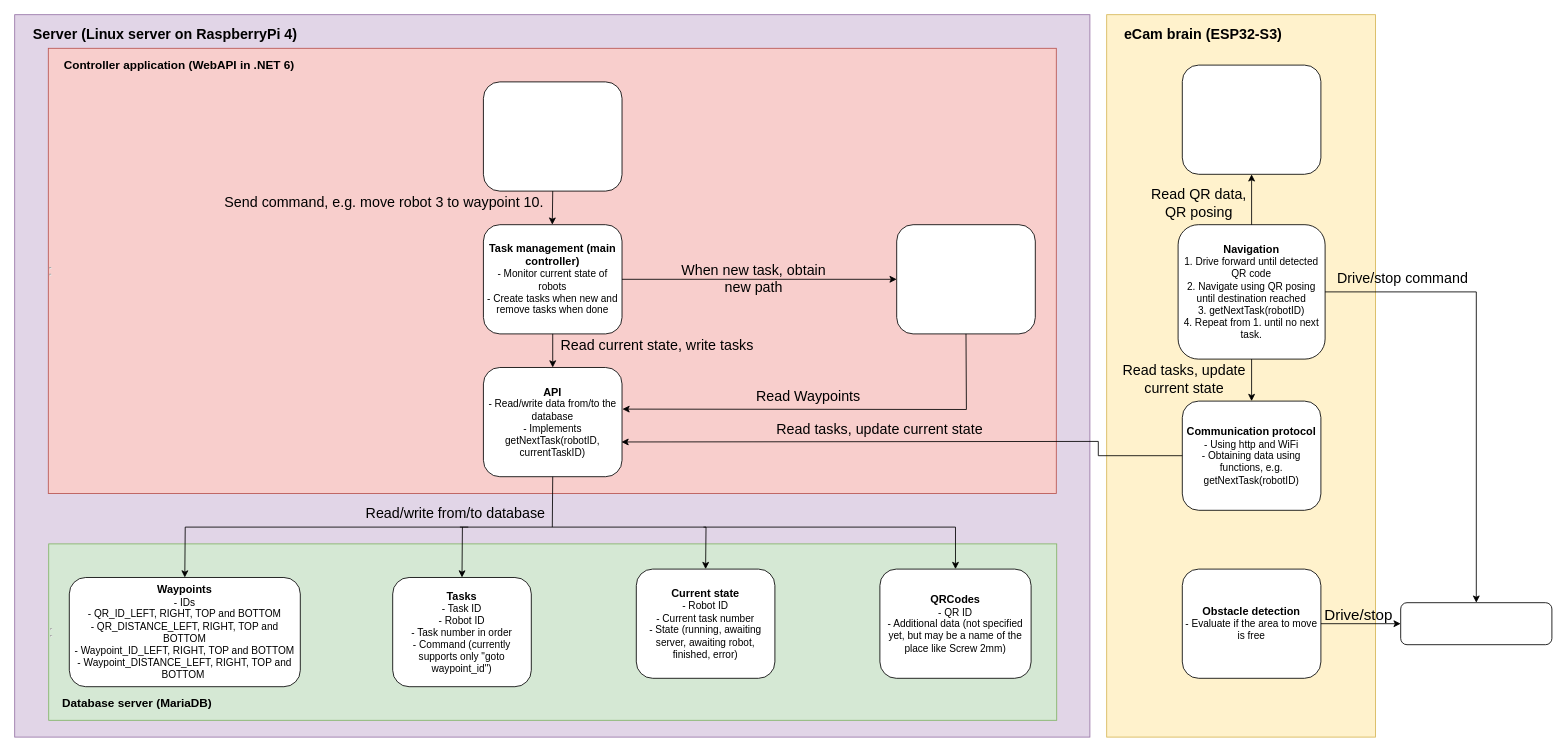
This 1567x752 diagram has some shape labels left out. The box of each missing label's shape, as (x1, y1, x2, y2) in pixels:
MOTOR CONTROL: (1400, 602, 1552, 645)
Pathfinding - Using Dijkstra algorithm: (896, 224, 1035, 334)
QR detection - Obtain QR ID - Get position of QR: (1181, 64, 1321, 174)
UI or test data - Say what to do, e.g. go to from one place to another: (483, 81, 622, 191)
